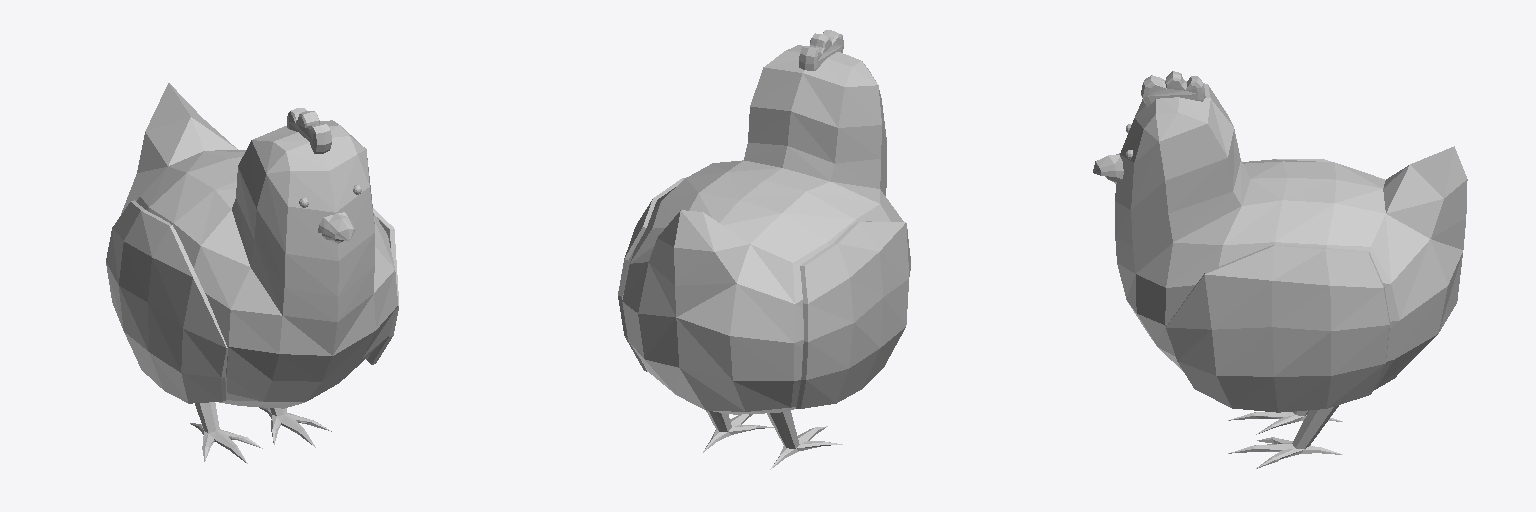
Rendered from hardcore_chicken.obj.
The picture shows the model from 3 angles: view 1: azimuth 30°, elevation 25°; view 2: azimuth 150°, elevation 25°; view 3: azimuth 270°, elevation 25°; orthographic projection.
Visible parts, largest first — view 1: Hen; view 2: Hen; view 3: Hen.
Boxes of the visible parts, x1,y1,x2,y2 form: Hen: [106, 83, 398, 463]; Hen: [618, 30, 910, 469]; Hen: [1093, 71, 1467, 468].
Size of the model in its own units: 2.72 by 4.24 by 3.95.